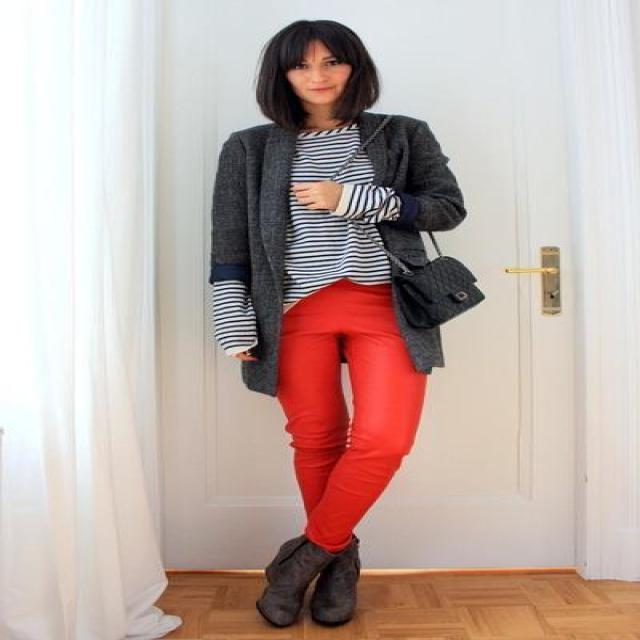bag: (365, 256, 483, 329)
jacket: (210, 115, 466, 396)
pants: (276, 278, 430, 550)
shirt: (194, 127, 394, 360)
shoe: (256, 534, 360, 628)
